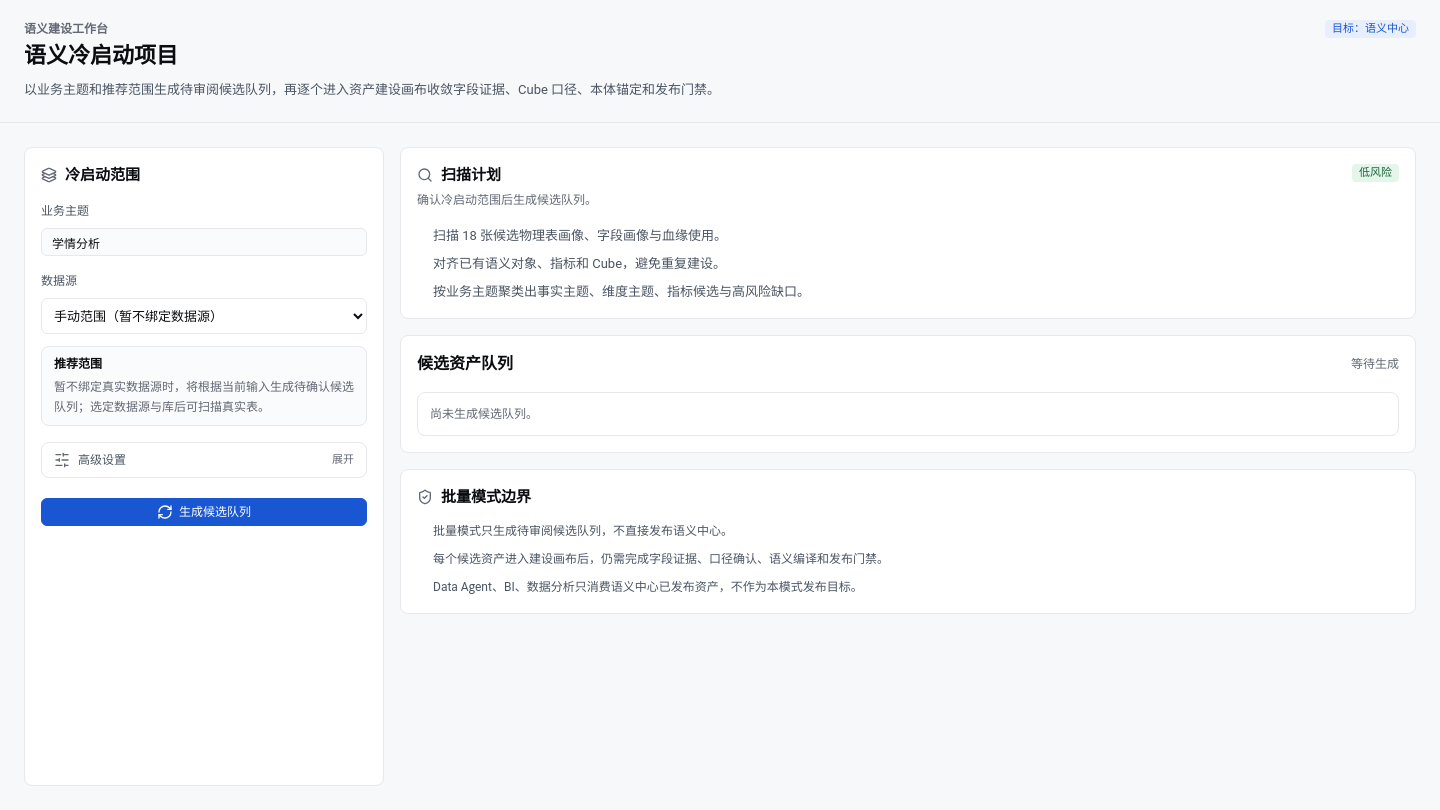
Test: BatchModelingWorkbench › 候选队列按分诊桶分组展示
Click the button "生成候选队列".
click(204, 512)  # box [41,498,367,526]
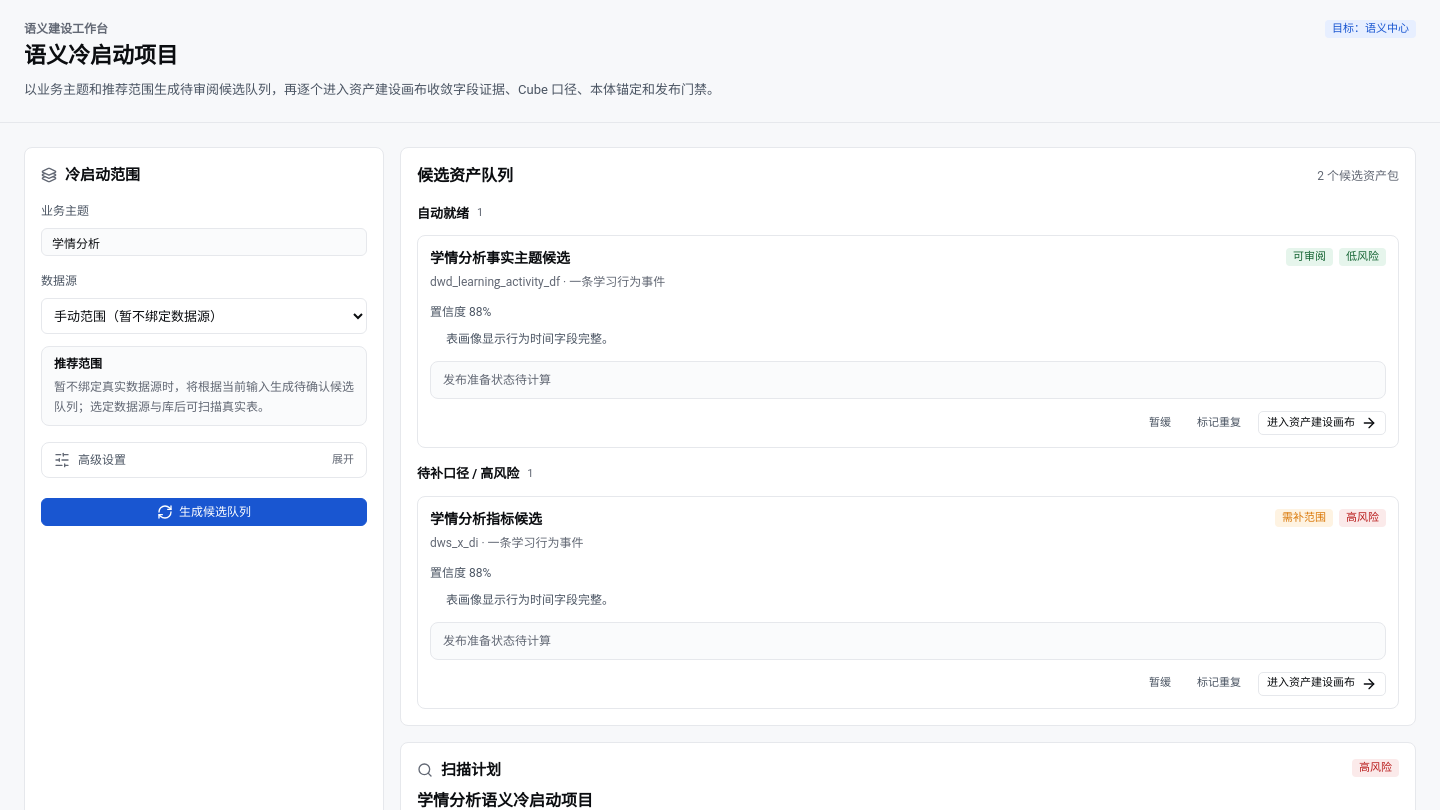
Expected: the text "自动就绪" is shown, [417,204,469,223]
Expected: the text "待补口径 / 高风险" is shown, [417,464,519,484]
Expected: the heading "学情分析事实主题候选" is shown, [430,250,570,266]
